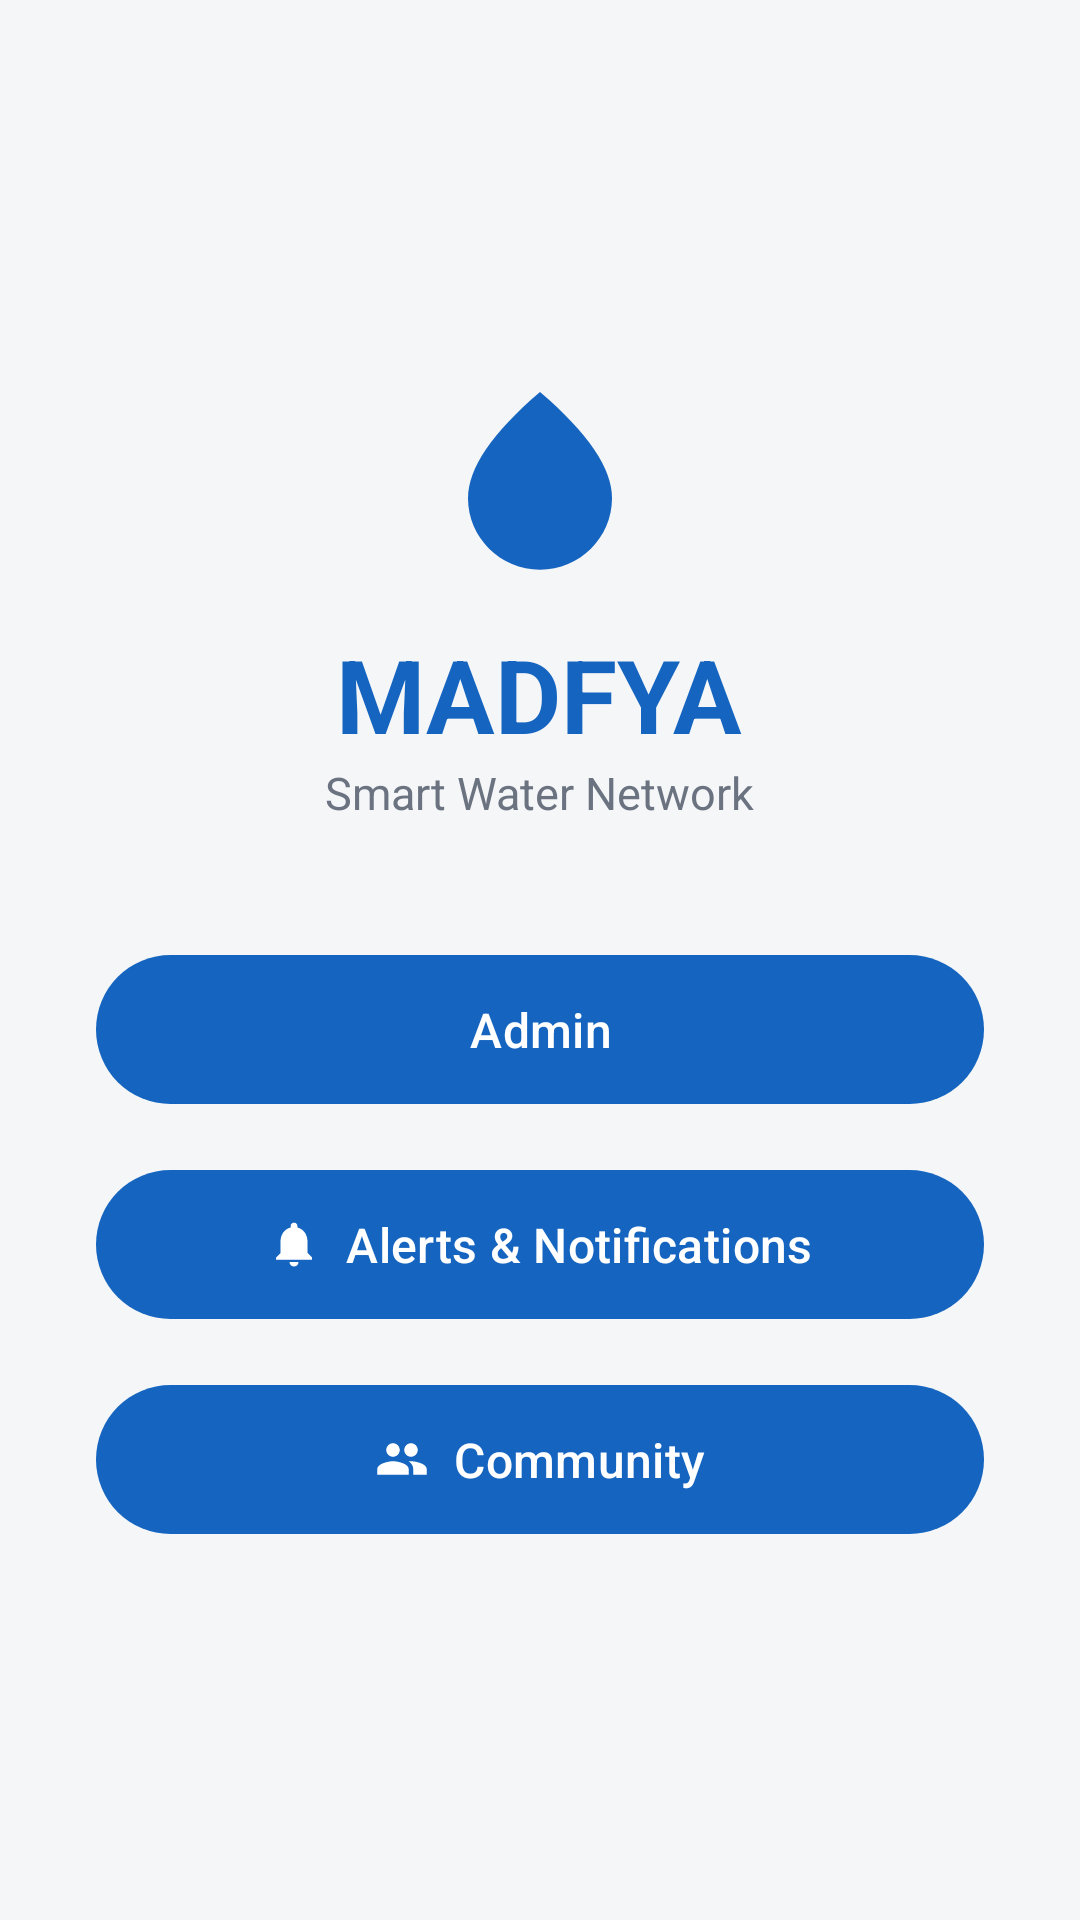

Named icons in this screenshot (1080 x 1920) and their centers, point (x, y):
water drop: point (540, 481)
